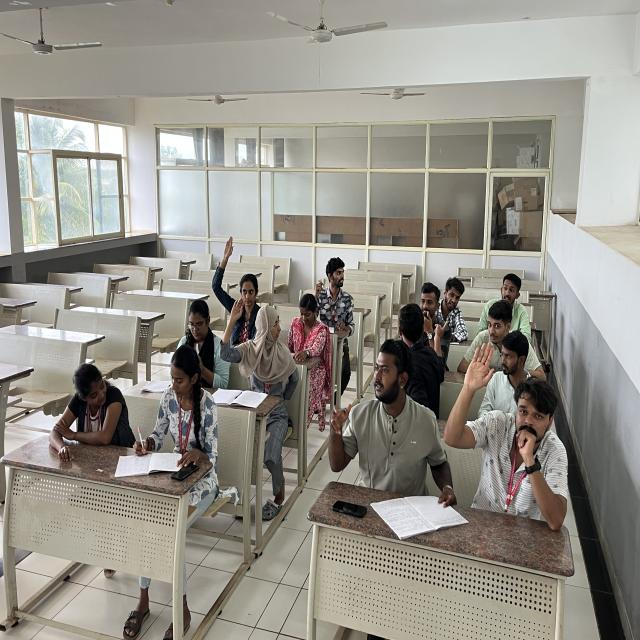Hand Rising: (441, 335, 583, 522), (221, 294, 295, 391), (209, 232, 265, 325)
Writing: (126, 343, 218, 468)
